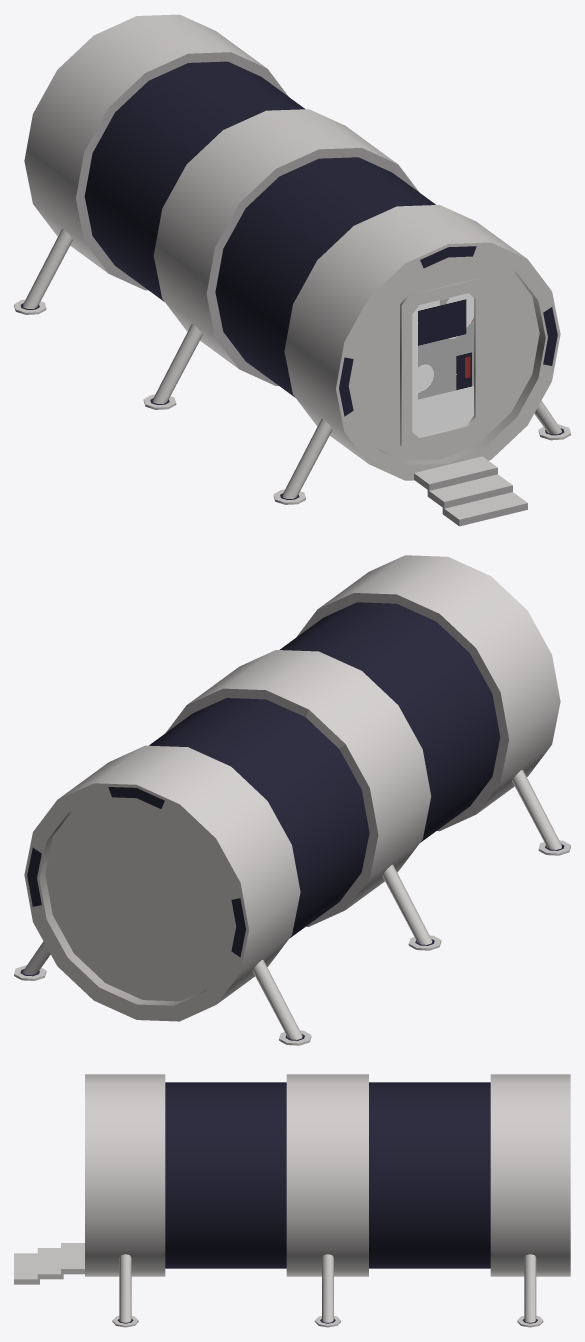
File: coridor2.fbx
3 renders of one model, top to bottom at view 1: azimuth 30°, elevation 25°; view 2: azimuth 150°, elevation 25°; view 3: azimuth 270°, elevation 25°, orthographic. The views are drawn at different scales.
Parts seen in each view (by area): view 1: coridor2; view 2: coridor2; view 3: coridor2.
Part boxes in pixels (x1,y1,x2,y2): coridor2: [14, 14, 570, 526]; coridor2: [14, 555, 570, 1045]; coridor2: [14, 1074, 570, 1327].
Size of the model in its own units: 3.84 by 3 by 8.07.
